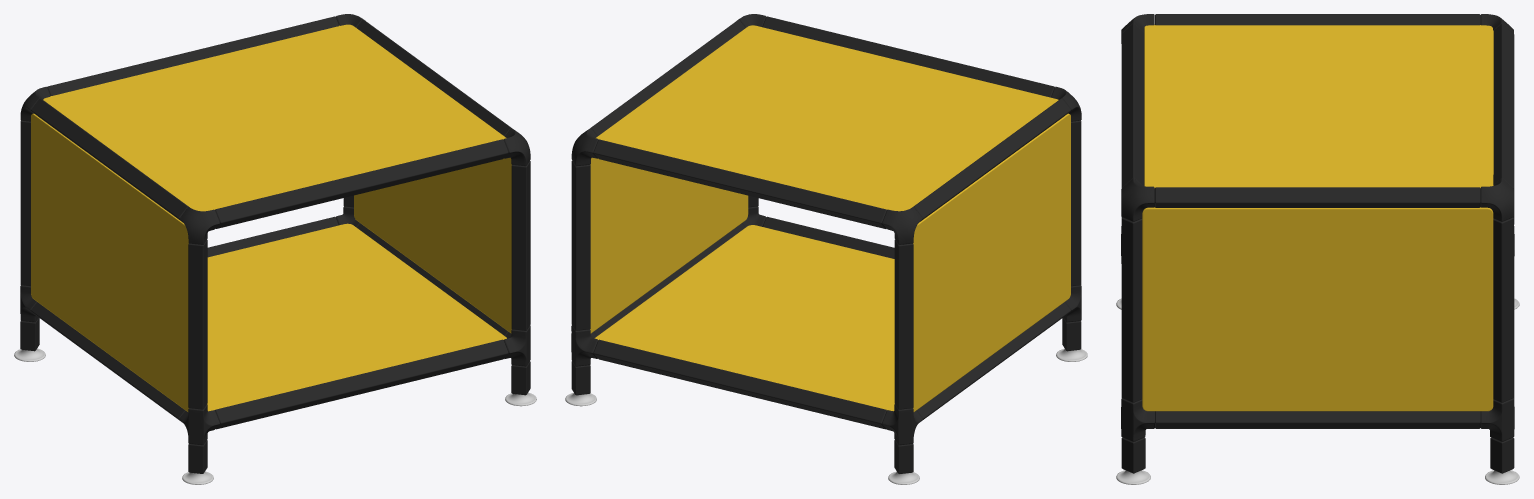
The picture shows the model from 3 angles, left to right: view 1: azimuth 30°, elevation 25°; view 2: azimuth 150°, elevation 25°; view 3: azimuth 270°, elevation 25°; orthographic projection. The views are drawn at different scales.
Parts seen in each view (by area): view 1: 420x374x229; view 2: 420x374x229; view 3: 420x374x229.
Part boxes in pixels (<box>): 420x374x229: <box>14,14,536,484</box>; 420x374x229: <box>565,14,1087,484</box>; 420x374x229: <box>1116,14,1519,484</box>.
Size of the model in its own units: 0.5099 by 0.3683 by 0.4631.
